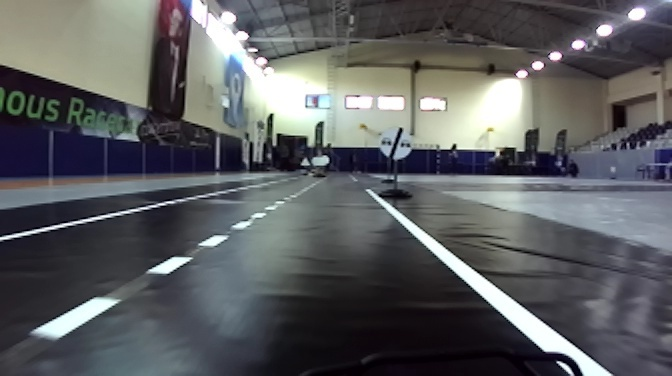sollama_serbest: (379, 125, 412, 158)
